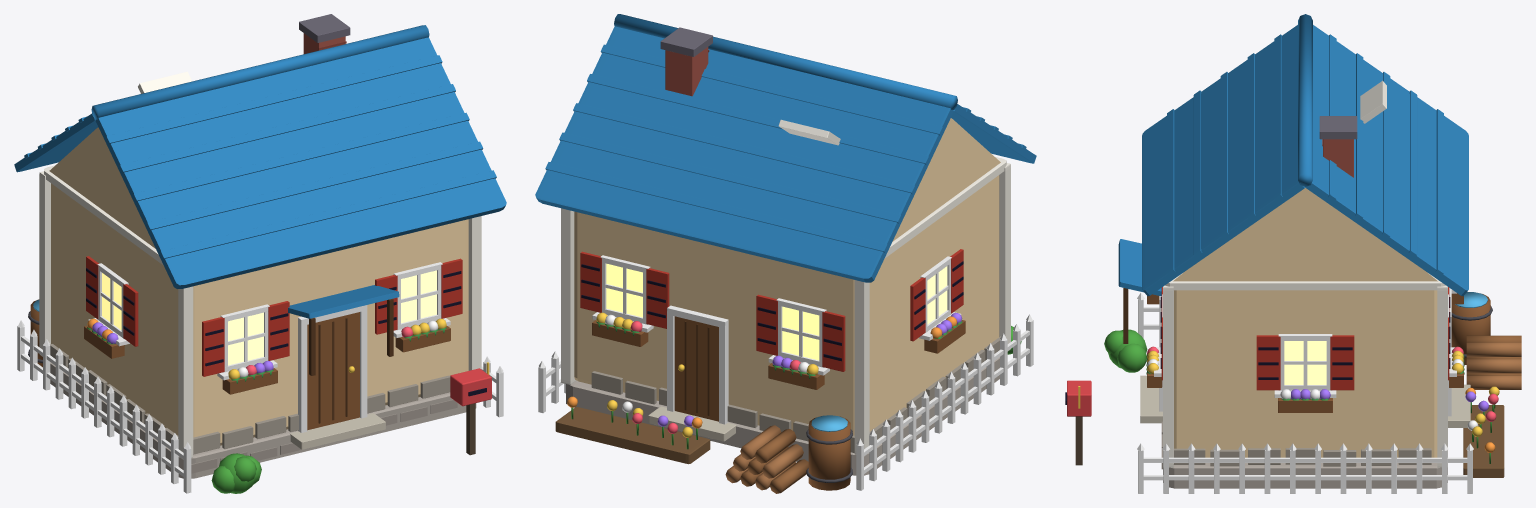
Rendered from domek2.glb.
The picture shows the model from 3 angles, left to right: view 1: azimuth 30°, elevation 25°; view 2: azimuth 150°, elevation 25°; view 3: azimuth 270°, elevation 25°; orthographic projection. The views are drawn at different scales.
Parts seen in each view (by area): view 1: domek2; view 2: domek2; view 3: domek2.
Boxes of the visible parts, x1=… form: domek2: x1=14, y1=14, x2=506, y2=493; domek2: x1=535, y1=14, x2=1036, y2=493; domek2: x1=1065, y1=14, x2=1521, y2=493.
Bounding box in the file's own units: 5.54 × 5.43 × 6.65.
Materials: 2 (2 with a texture image).
